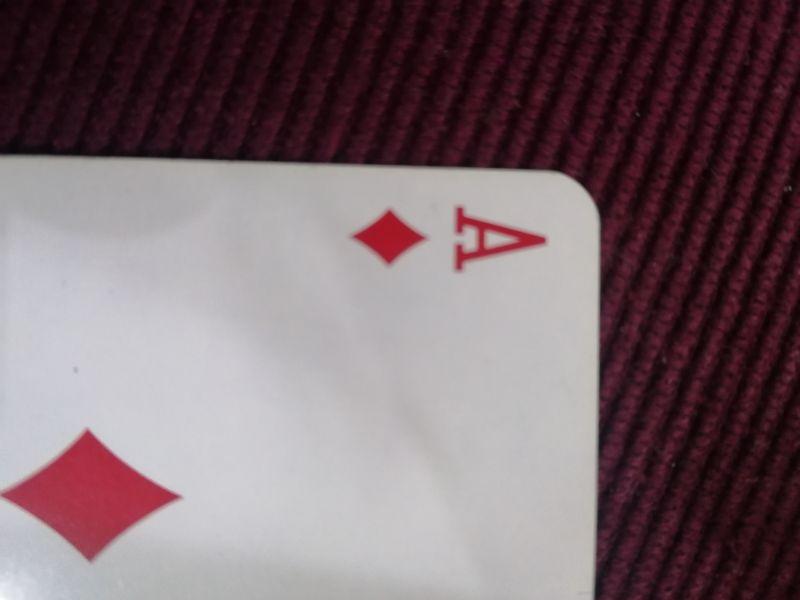Ad: (345, 193, 553, 279)
